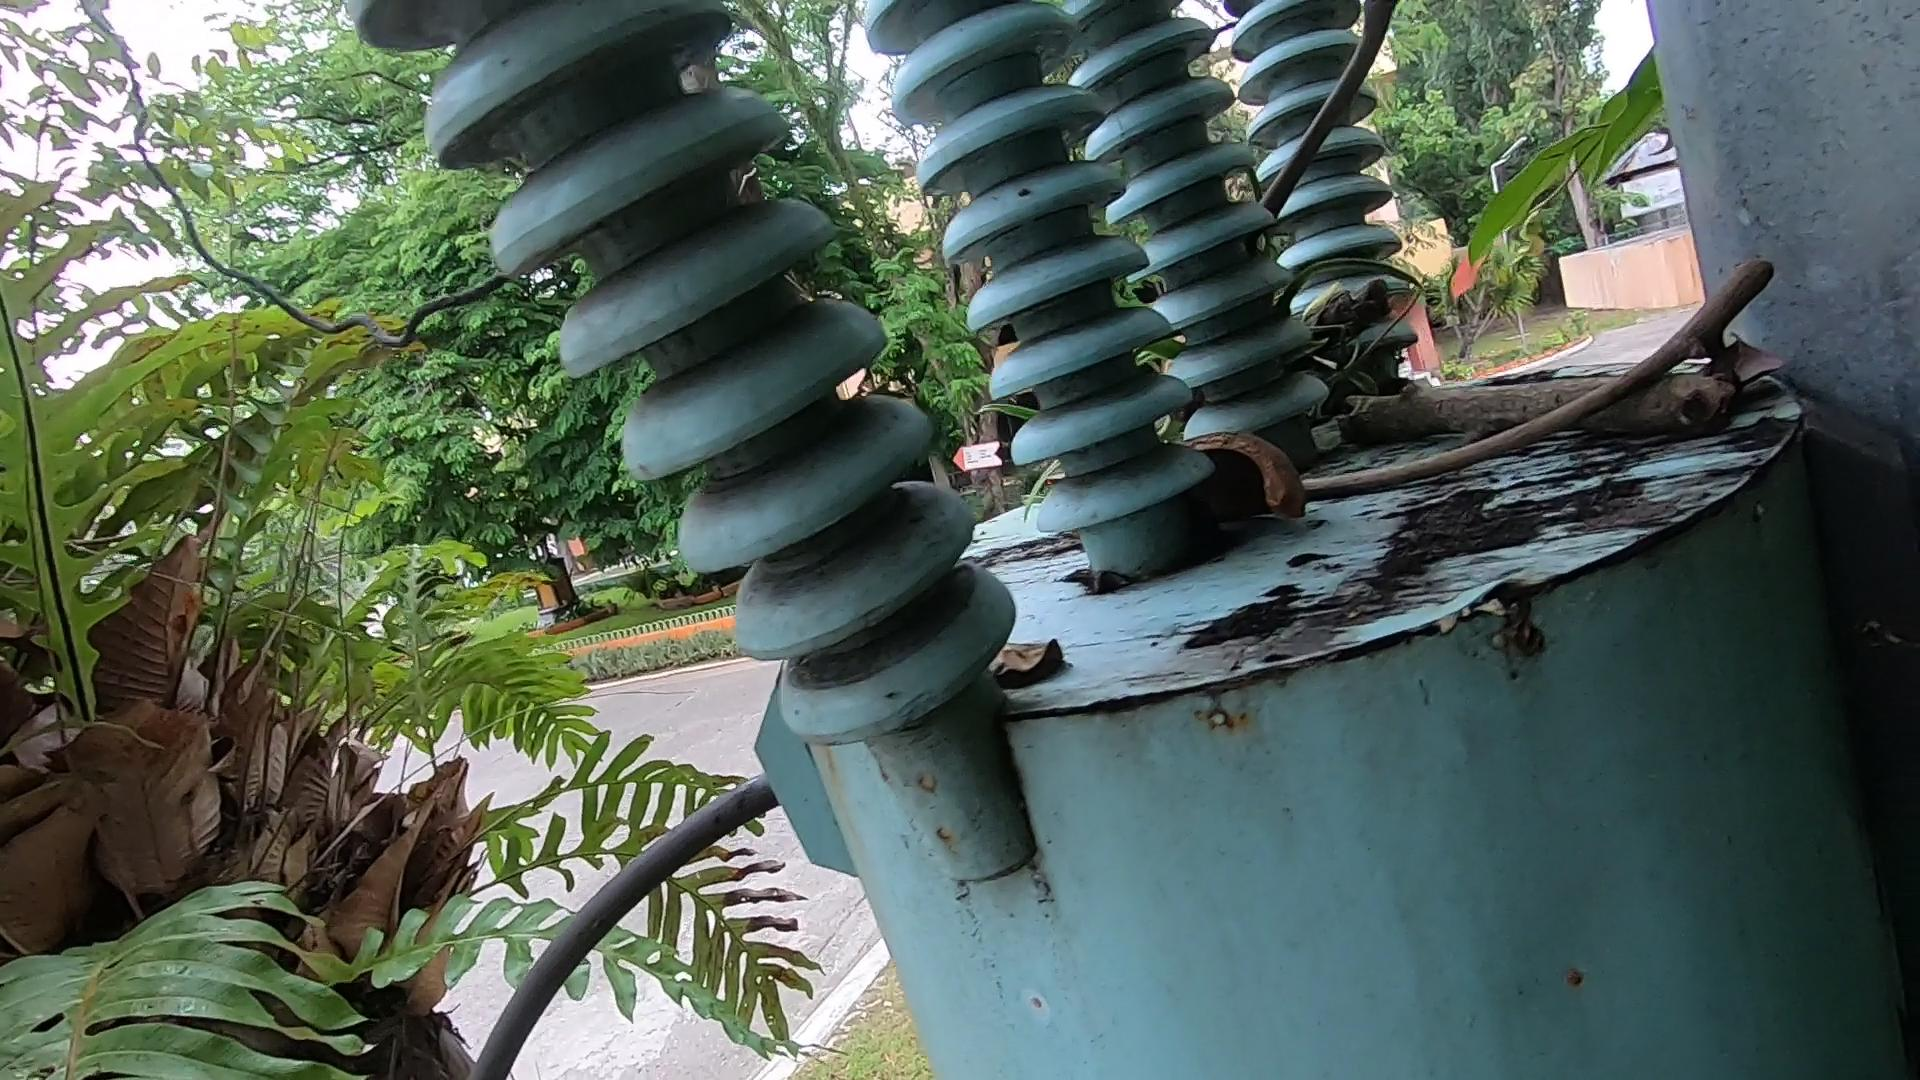branch with leaves: (1232, 232, 1768, 471)
leaf: (939, 585, 1118, 728), (1676, 291, 1789, 429)
mahogany fruit: (1166, 419, 1354, 549)
tree branch: (1308, 229, 1818, 517), (1265, 1, 1406, 215)
